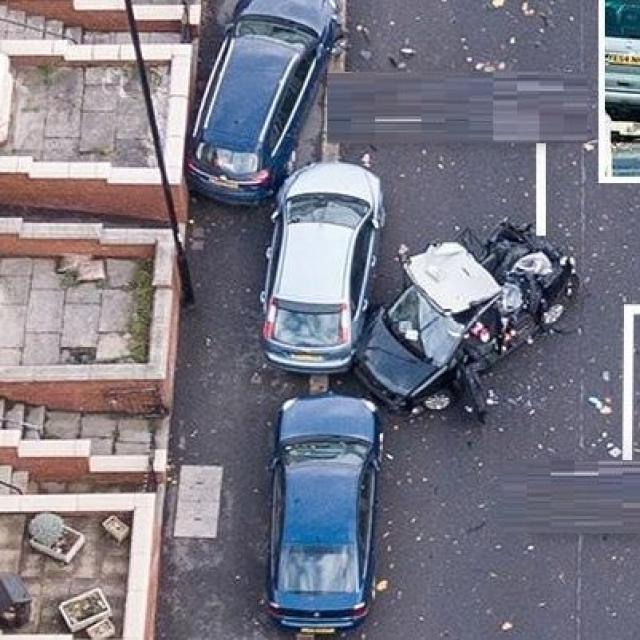traffic_incident: (349, 188, 581, 431)
